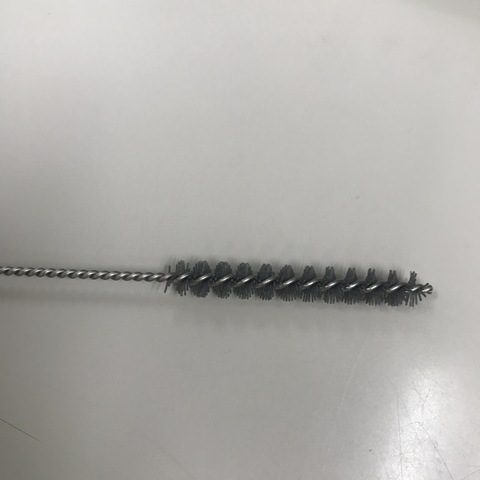Twist Brush-A: (1, 256, 436, 310)
